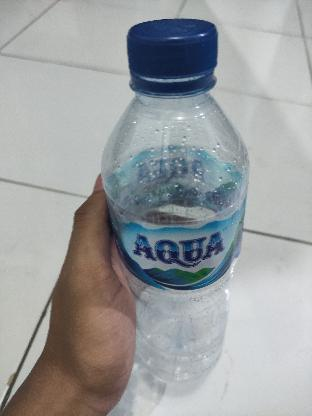Plastic Bottle: (95, 17, 257, 389)
